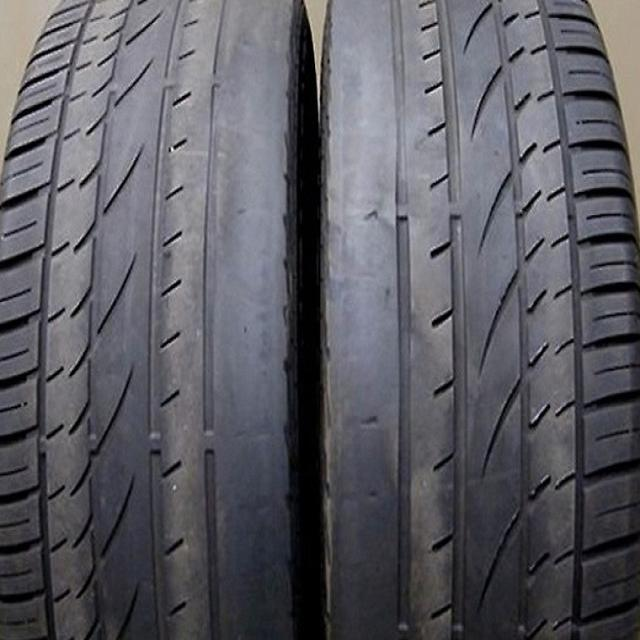Flat spots: (213, 0, 302, 639), (332, 5, 406, 639)
Non-defective: (425, 0, 640, 640), (0, 0, 191, 640)
